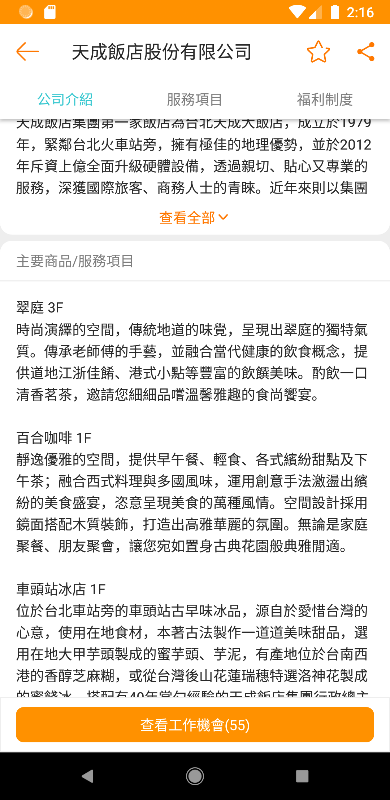button: (11, 704, 378, 746), (153, 201, 237, 232), (11, 36, 52, 67), (352, 31, 382, 68), (303, 35, 334, 68)
